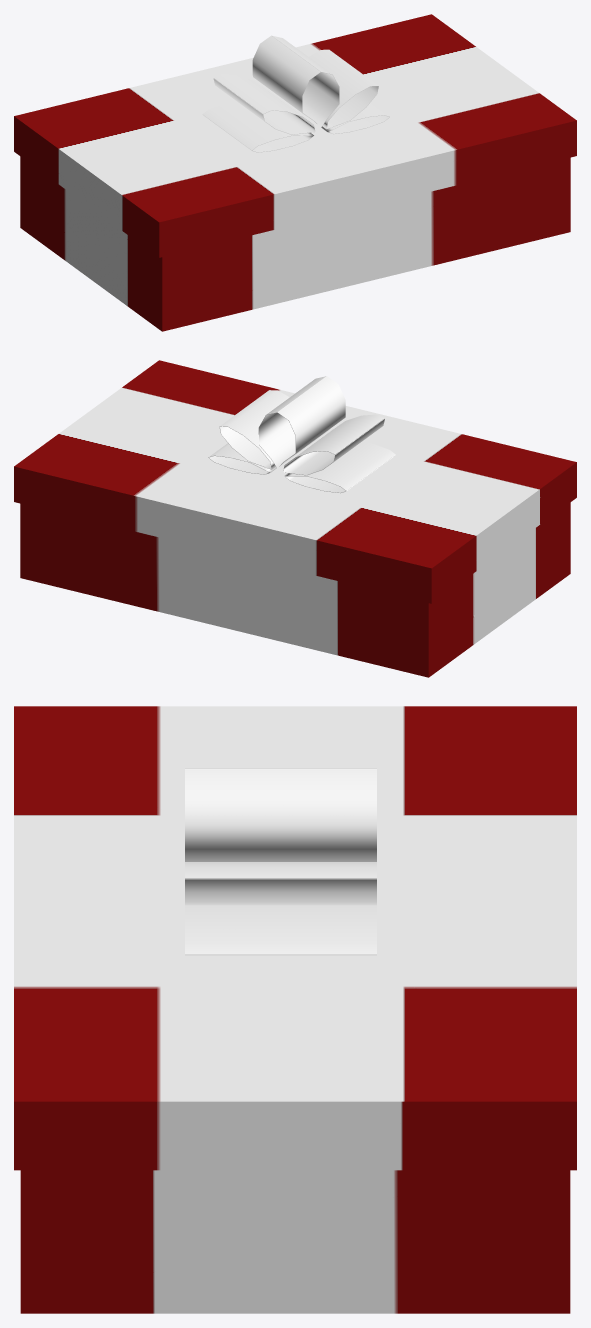
File: present_long_plain_ver1.fbx
3 renders of one model, top to bottom at view 1: azimuth 30°, elevation 25°; view 2: azimuth 150°, elevation 25°; view 3: azimuth 270°, elevation 25°, orthographic. The views are drawn at different scales.
Parts seen in each view (by area): view 1: Top, Box; view 2: Top, Box; view 3: Top, Box.
Boxes of the visible parts, x1=… form: Top: x1=14, y1=14, x2=576, y2=257; Box: x1=20, y1=156, x2=570, y2=331; Top: x1=14, y1=360, x2=576, y2=603; Box: x1=20, y1=502, x2=570, y2=677; Top: x1=14, y1=706, x2=576, y2=1170; Box: x1=20, y1=1170, x2=570, y2=1313.
Bounding box in the file's own units: 17.01 × 6.99 × 10.24.
